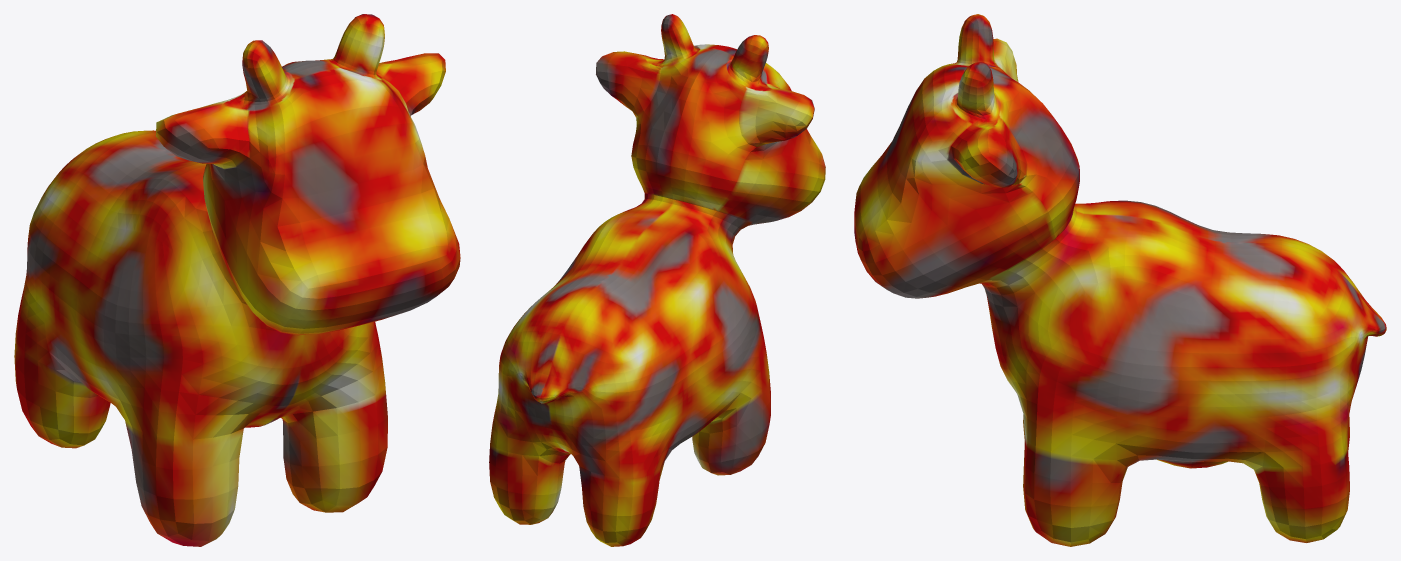
Rendered from meshnca_t3.glb.
3 renders of one model, left to right at view 1: azimuth 30°, elevation 25°; view 2: azimuth 150°, elevation 25°; view 3: azimuth 270°, elevation 25°, orthographic. The views are drawn at different scales.
Parts seen in each view (by area): view 1: geometry_0; view 2: geometry_0; view 3: geometry_0.
Boxes of the visible parts, x1,y1,x2,y2 form: geometry_0: (14, 14, 460, 546); geometry_0: (489, 14, 825, 546); geometry_0: (854, 14, 1386, 546).
Size of the model in its own units: 0.871 by 1.56 by 1.59.
